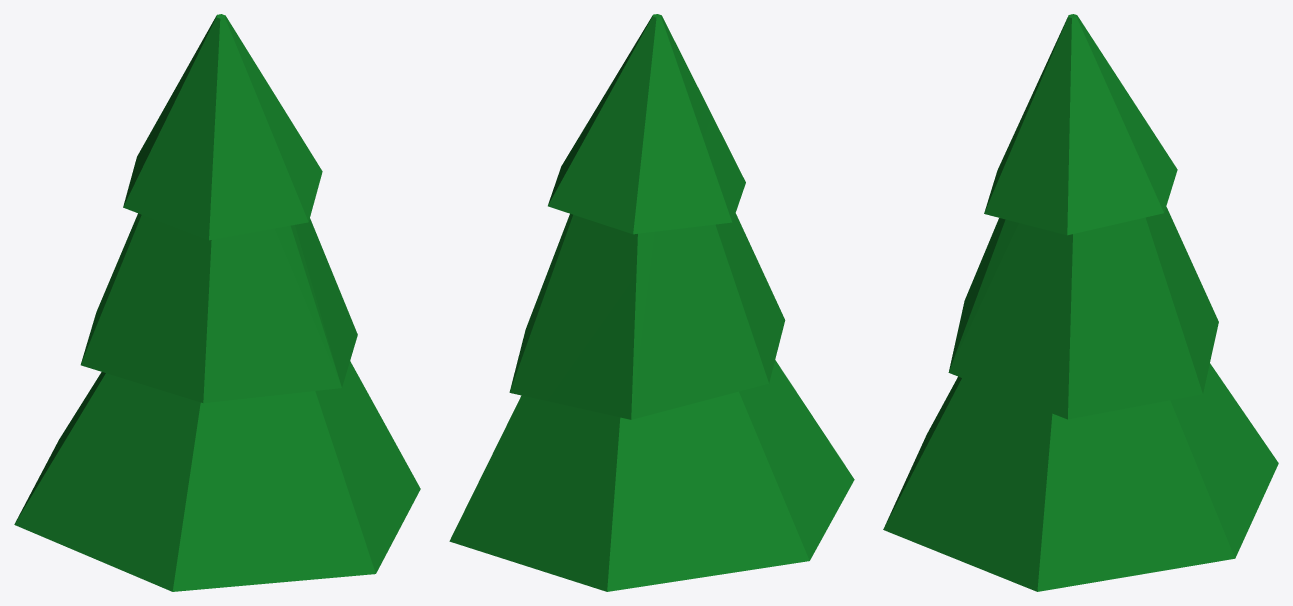
File: tree.glb
3 views of the same model, side by side, from view 1: azimuth 30°, elevation 25°; view 2: azimuth 150°, elevation 25°; view 3: azimuth 270°, elevation 25° (orthographic). The views are drawn at different scales.
Parts seen in each view (by area): view 1: tree; view 2: tree; view 3: tree.
Boxes of the visible parts, box(x1,y1,x2,y2) form: tree: box(14, 14, 420, 591); tree: box(449, 14, 854, 591); tree: box(883, 14, 1278, 591).
Size of the model in its own units: 0.4385 by 0.5968 by 0.4273.
